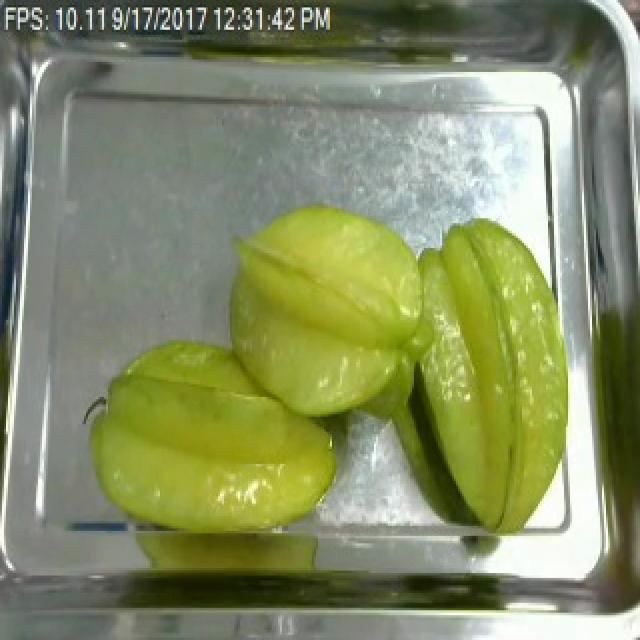fruit: (74, 328, 348, 556), (400, 206, 578, 541), (212, 194, 436, 436)
